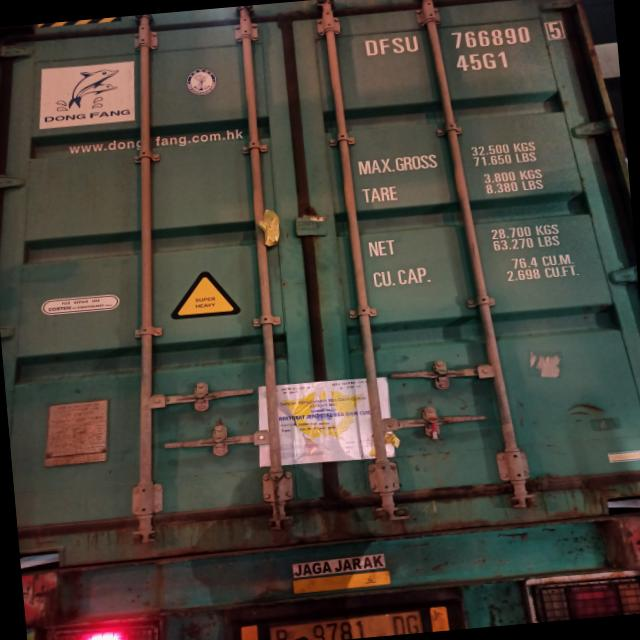seal: (426, 414, 442, 440)
